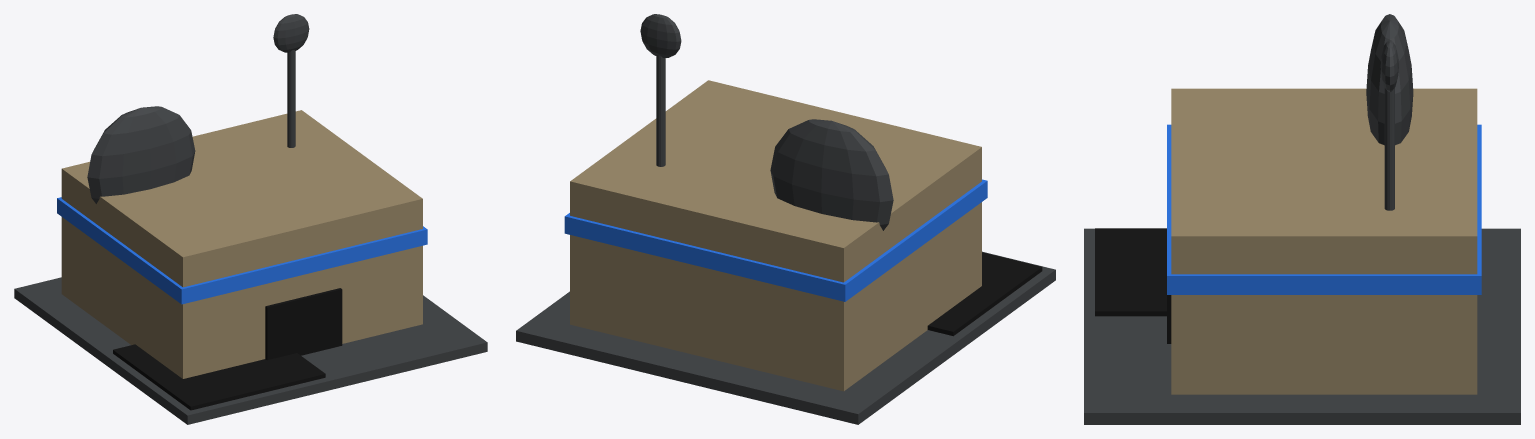
The model's file is ae_drone_complex.glb.
The picture shows the model from 3 angles, left to right: view 1: azimuth 30°, elevation 25°; view 2: azimuth 150°, elevation 25°; view 3: azimuth 270°, elevation 25°; orthographic projection. The views are drawn at different scales.
Visible parts, largest first — view 1: main, base, dish_big, team_band, pad, door, dish, mast; view 2: main, base, dish_big, team_band, pad, dish, mast; view 3: main, base, team_band, pad, dish_big, mast, dish.
Part boxes in pixels (<box>): main: <box>61,110,422,378</box>; base: <box>14,277,487,424</box>; dish_big: <box>87,106,195,203</box>; team_band: <box>57,197,427,304</box>; pad: <box>113,344,325,410</box>; door: <box>265,288,342,360</box>; dish: <box>273,14,309,52</box>; mast: <box>287,50,295,147</box>; main: <box>570,80,981,391</box>; base: <box>516,251,1055,424</box>; dish_big: <box>770,119,893,230</box>; team_band: <box>564,179,987,301</box>; pad: <box>927,252,1042,336</box>; dish: <box>640,14,681,57</box>; mast: <box>656,55,665,166</box>; main: <box>1171,88,1477,394</box>; base: <box>1084,228,1520,424</box>; team_band: <box>1167,124,1481,294</box>; pad: <box>1095,228,1166,316</box>; dish_big: <box>1366,14,1413,145</box>; mast: <box>1384,88,1394,210</box>; dish: <box>1380,40,1398,91</box>.
Bounding box in the file's own units: 10 × 8.5 × 10.
